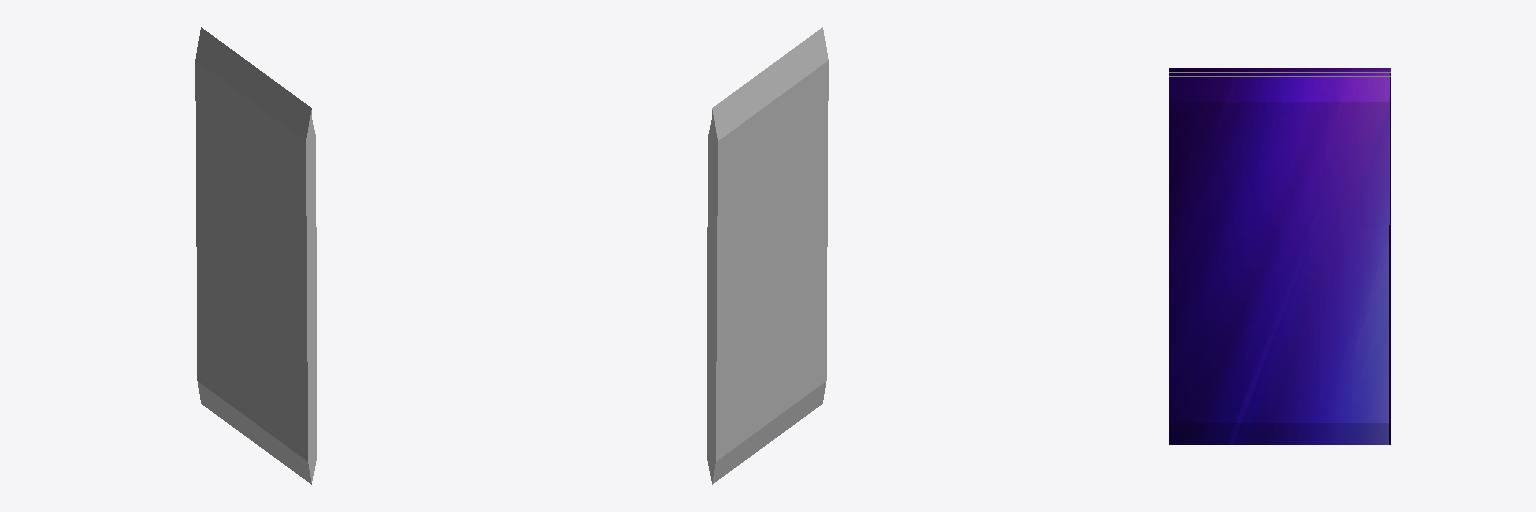
3 views of the same model, side by side, from view 1: azimuth 30°, elevation 25°; view 2: azimuth 150°, elevation 25°; view 3: azimuth 270°, elevation 25° (orthographic).
Visible parts, largest first — view 1: Pacchetto_Material; view 2: Pacchetto_Material; view 3: Pacchetto_Material.003.
Boxes of the visible parts, x1,y1,x2,y2 form: Pacchetto_Material: [195, 27, 316, 484]; Pacchetto_Material: [707, 27, 828, 484]; Pacchetto_Material.003: [1169, 68, 1390, 444].
Size of the model in its own units: 1.25 by 41.54 by 22.14.
Materials: 2 (1 with a texture image).